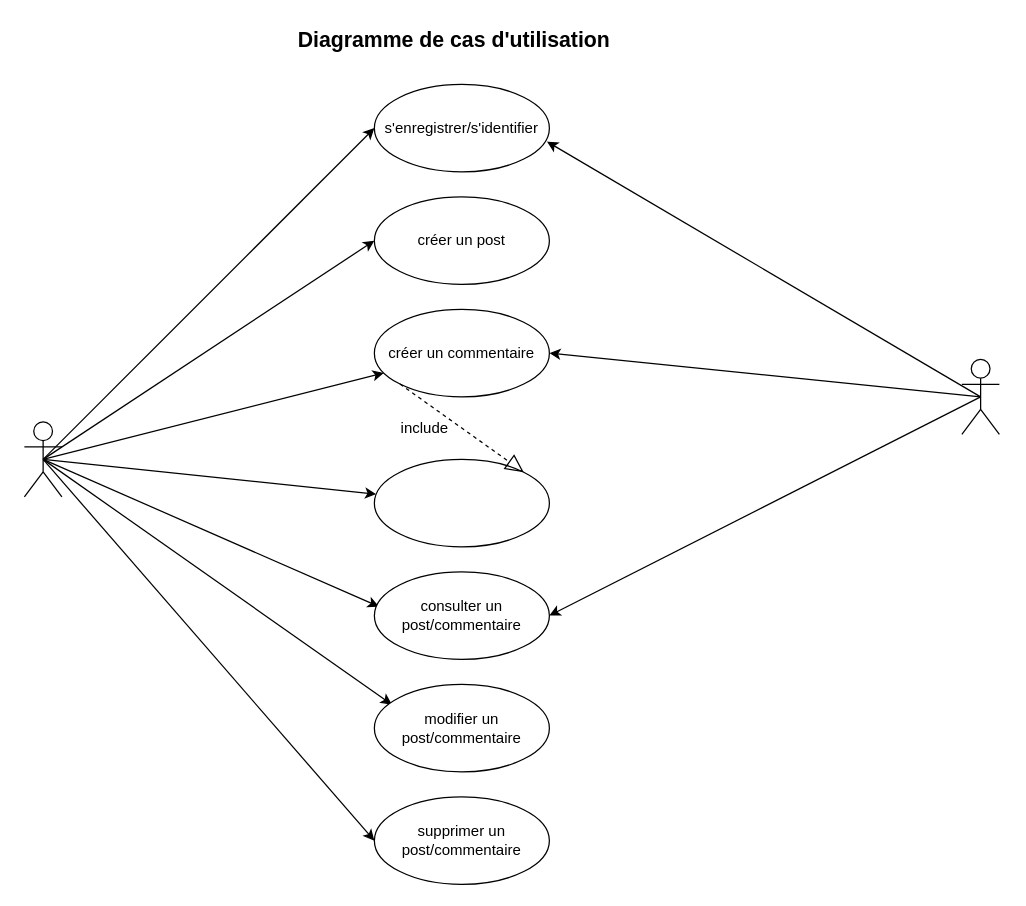
Some shapes in this 1026 by 906 pixel diagram are drawn without their labels. The shapes that lost their labels are listed below. From the top down, each one's box as (x1, y1, x2, y2) in pixels, then its label:
(961, 358, 999, 434): Visiteur
(23, 421, 62, 497): Admin
(373, 458, 549, 547): valider un commentaire
